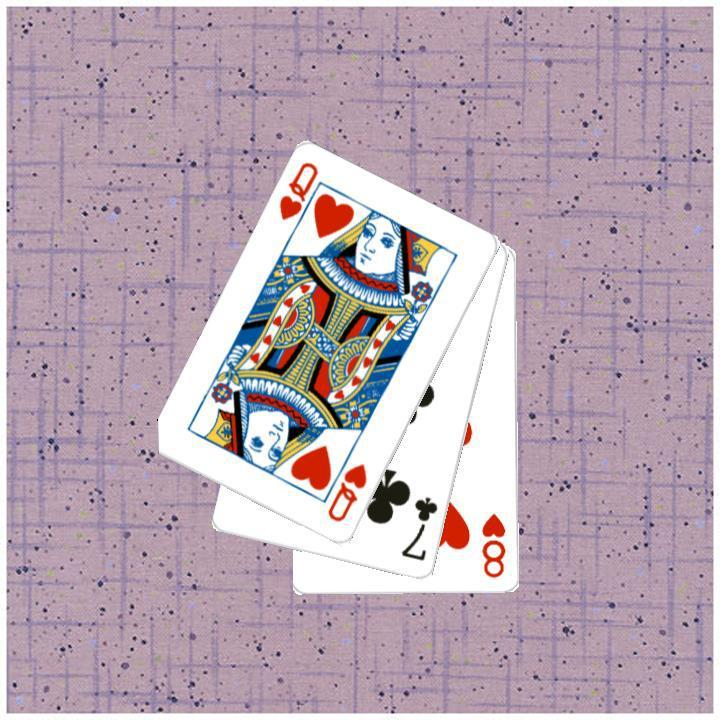7: (397, 493, 440, 564)
8: (478, 509, 509, 580)
Q: (275, 158, 325, 238), (323, 460, 369, 525)
